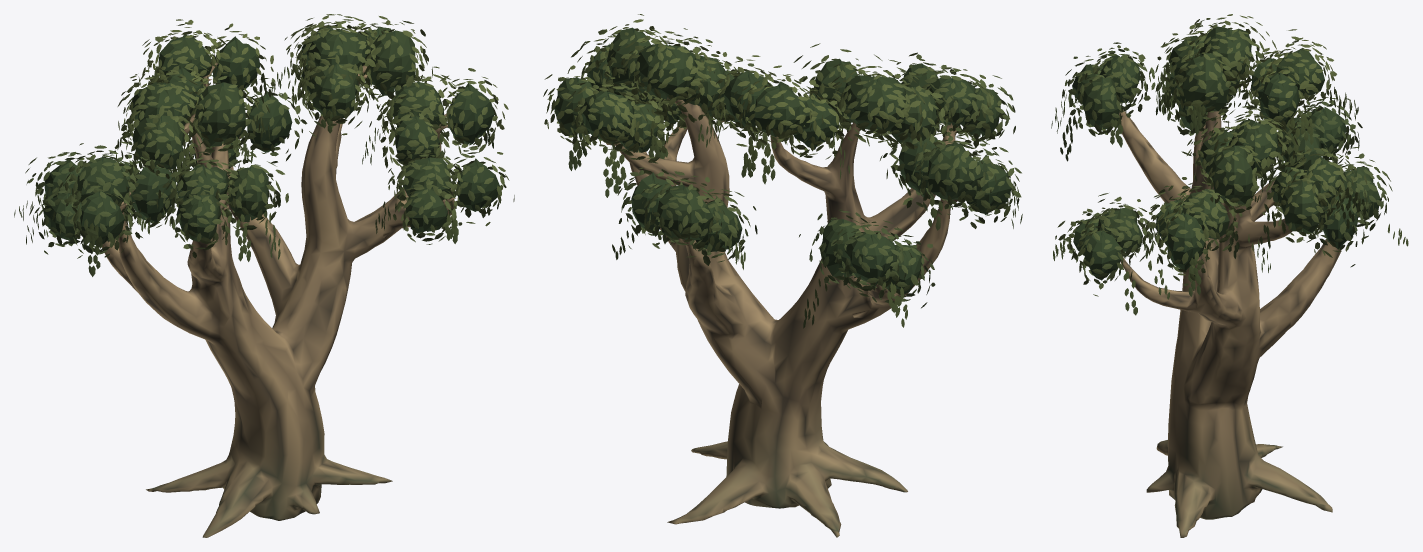
File: crowncourt-study.glb
The picture shows the model from 3 angles, left to right: view 1: azimuth 30°, elevation 25°; view 2: azimuth 150°, elevation 25°; view 3: azimuth 270°, elevation 25°; orthographic projection. The views are drawn at different scales.
Visible parts, largest first — view 1: crown-foliage, living-wood; view 2: crown-foliage, living-wood; view 3: crown-foliage, living-wood.
Boxes of the visible parts, x1,y1,x2,y2 form: crown-foliage: (14,14,514,276); living-wood: (102,62,457,537); crown-foliage: (543,14,1022,328); living-wood: (606,97,958,537); crown-foliage: (1051,14,1408,315); living-wood: (1119,110,1341,537).
Size of the model in its own units: 8.86 by 8.81 by 6.41.
